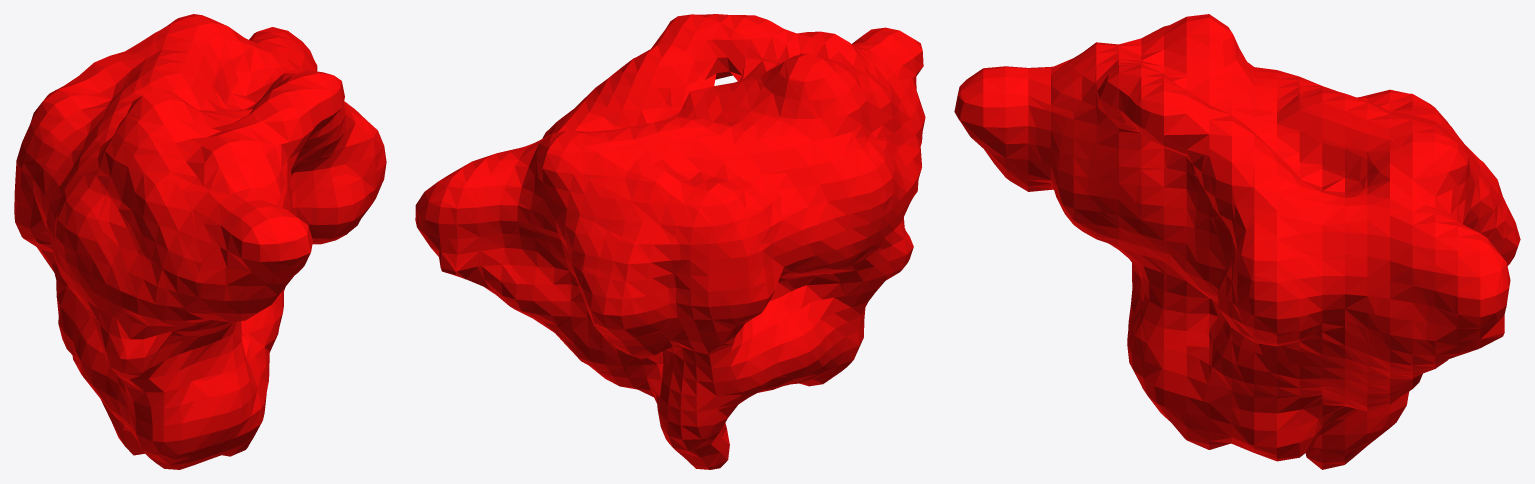
Rendered from gltP_coarse.dae.
3 renders of one model, left to right at view 1: azimuth 30°, elevation 25°; view 2: azimuth 150°, elevation 25°; view 3: azimuth 270°, elevation 25°, orthographic. The views are drawn at different scales.
Parts seen in each view (by area): view 1: gltP; view 2: gltP; view 3: gltP.
Boxes of the visible parts, bbox=[...] form: gltP: bbox=[14, 14, 386, 469]; gltP: bbox=[415, 14, 925, 469]; gltP: bbox=[954, 14, 1520, 469].
Size of the model in its own units: 62.03 by 64.84 by 77.56.
